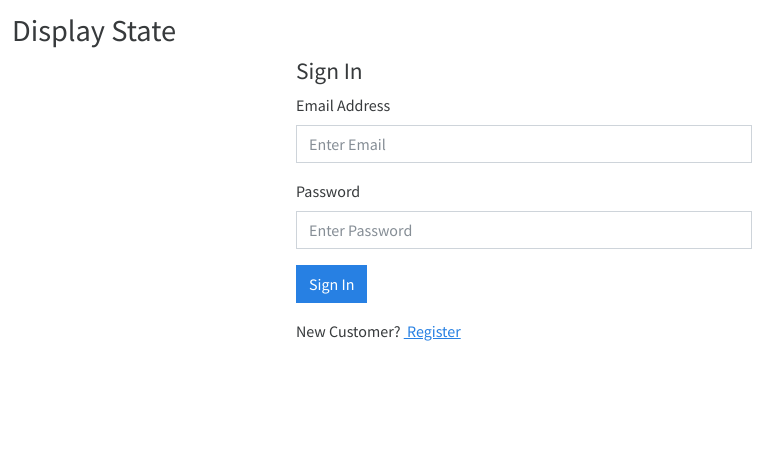
Test case: fill form and submit › when form is submitted, dispach login and get back user from backend
The width and height of the screenshot is (769, 463).
In the field labelled "Email Address": (524, 144) [296, 125, 752, 163], type "test@example.com"
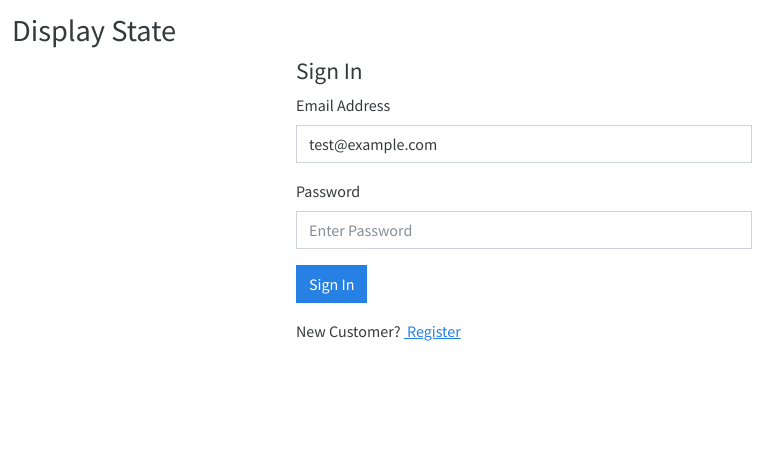
In the password field labelled "Password": (524, 230) [296, 211, 752, 249], type "123456"
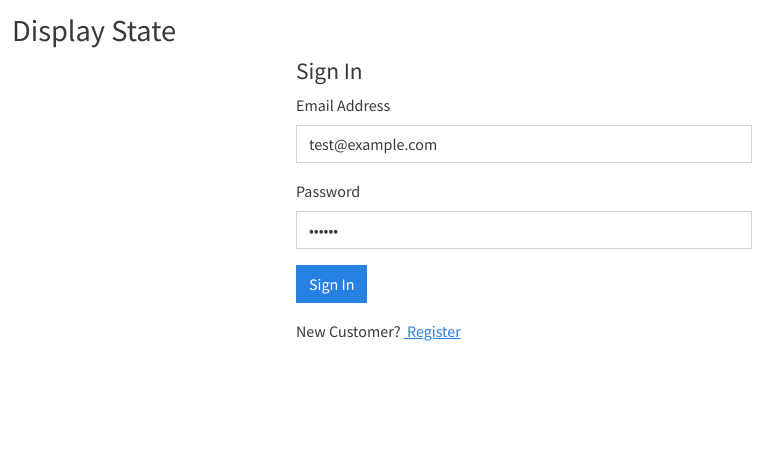
Click the button: (332, 284) [296, 265, 368, 303]
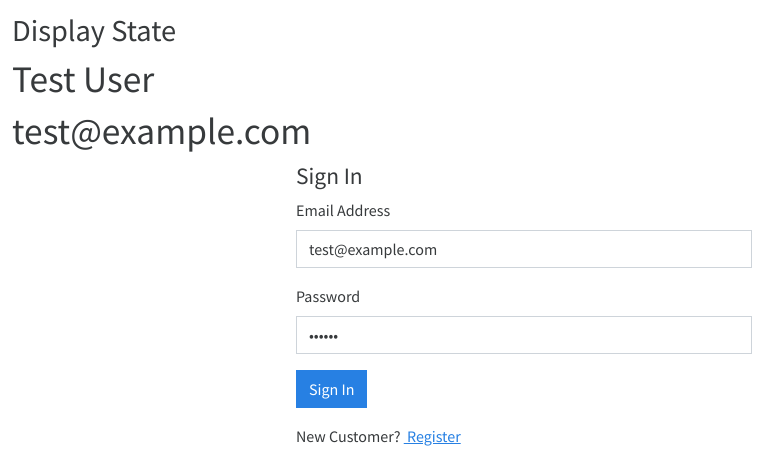
Result: the heading "test@example.com" is shown at [12, 107, 311, 154]
